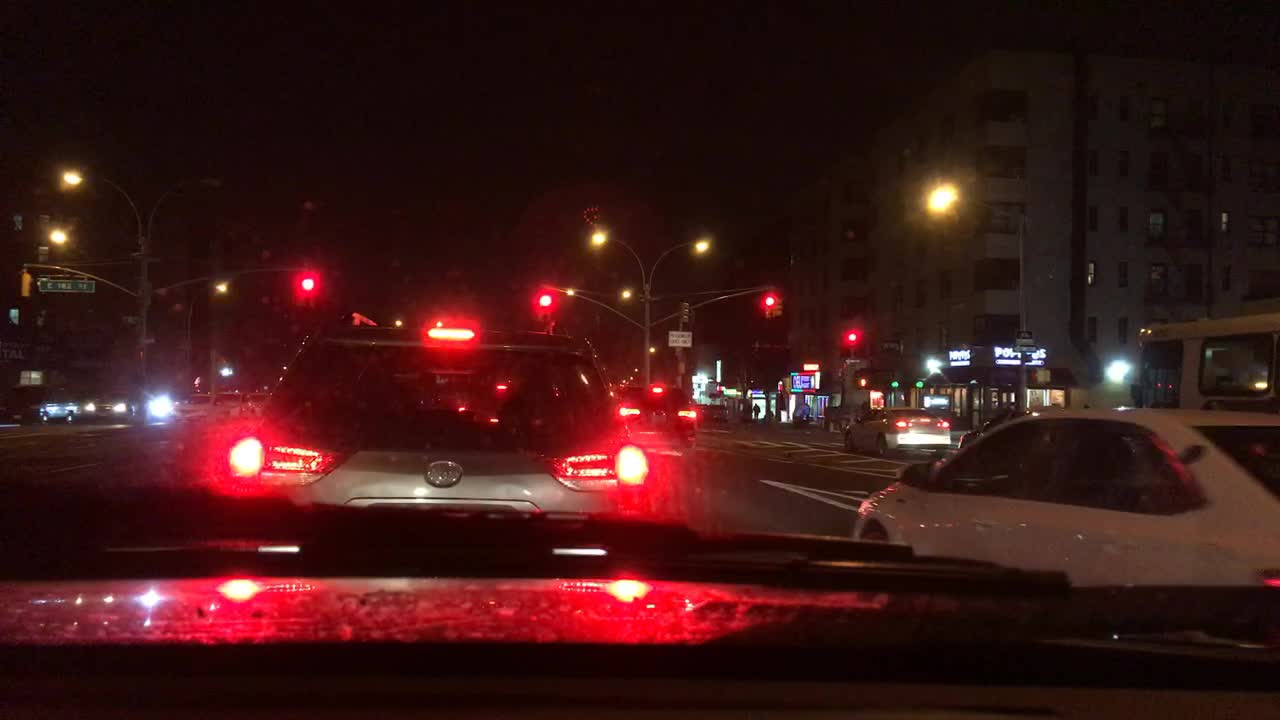bike: (126, 378, 145, 430)
bus: (1133, 311, 1279, 420)
car: (192, 314, 647, 575), (847, 405, 1277, 591), (842, 403, 951, 459), (615, 381, 698, 444), (37, 379, 80, 427), (195, 361, 251, 397), (82, 385, 127, 421)
person: (752, 400, 761, 424)
traffic light: (533, 287, 553, 309), (20, 270, 32, 299), (302, 274, 317, 294), (761, 292, 776, 312), (843, 332, 860, 348), (681, 300, 691, 324)
traffic sign: (35, 278, 94, 293), (1012, 332, 1039, 353)
